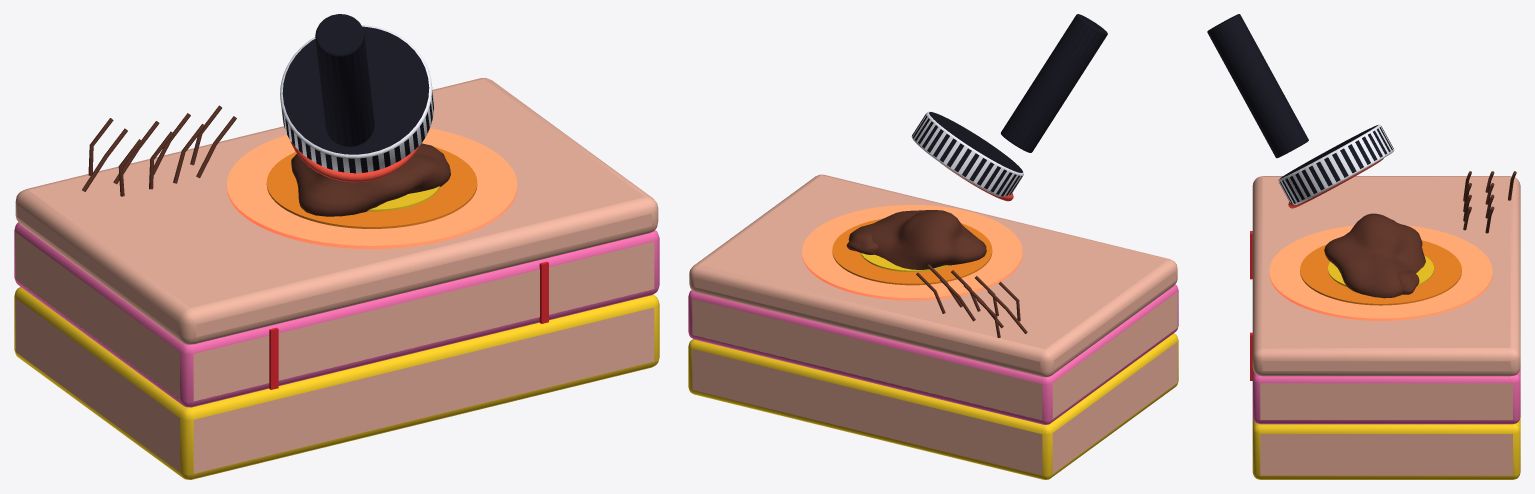
File: derm.glb
3 renders of one model, left to right at view 1: azimuth 30°, elevation 25°; view 2: azimuth 150°, elevation 25°; view 3: azimuth 270°, elevation 25°, orthographic. The views are drawn at different scales.
Visible parts, largest first — view 1: skin, bob_scope, pulse_heat, lesion, hairs; view 2: skin, pulse_heat, bob_scope, lesion, hairs; view 3: skin, pulse_heat, bob_scope, lesion, hairs.
Part boxes in pixels (x1,y1,x2,y2): skin: (14,78,659,479); bob_scope: (280,14,433,182); pulse_heat: (226,128,517,249); lesion: (291,143,450,216); hairs: (82,105,236,196); skin: (688,174,1178,479); pulse_heat: (802,205,1022,300); bob_scope: (911,14,1107,201); lesion: (846,210,986,269); hairs: (916,264,1027,337); skin: (1250,176,1520,479); pulse_heat: (1269,225,1492,320); bob_scope: (1207,14,1394,208); lesion: (1324,213,1425,298); hairs: (1463,171,1516,233).
Size of the model in its own units: 7.6 by 6.74 by 5.61.
